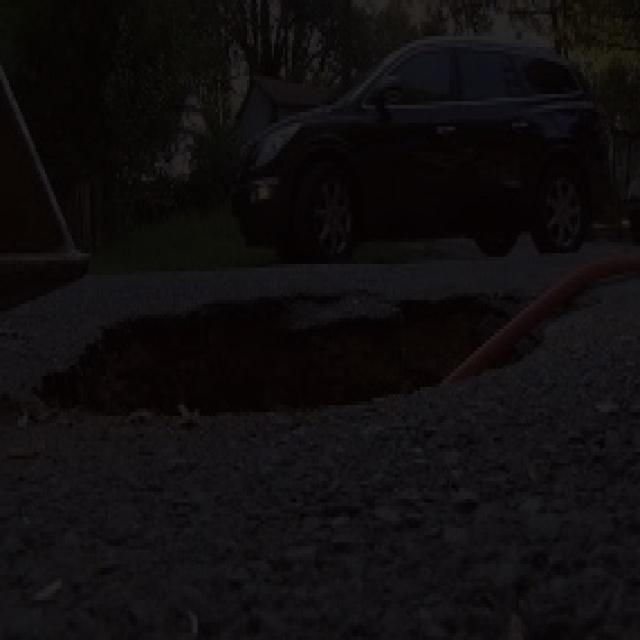Pothole: (24, 284, 558, 424)
